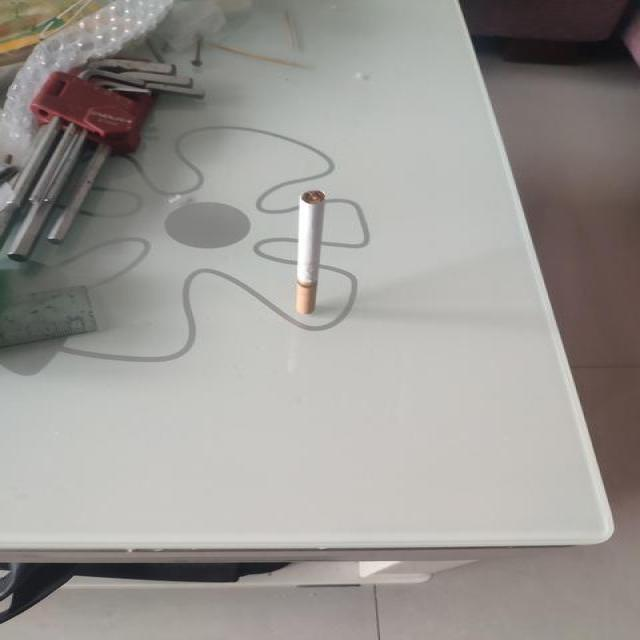smoking: (295, 189, 328, 313)
